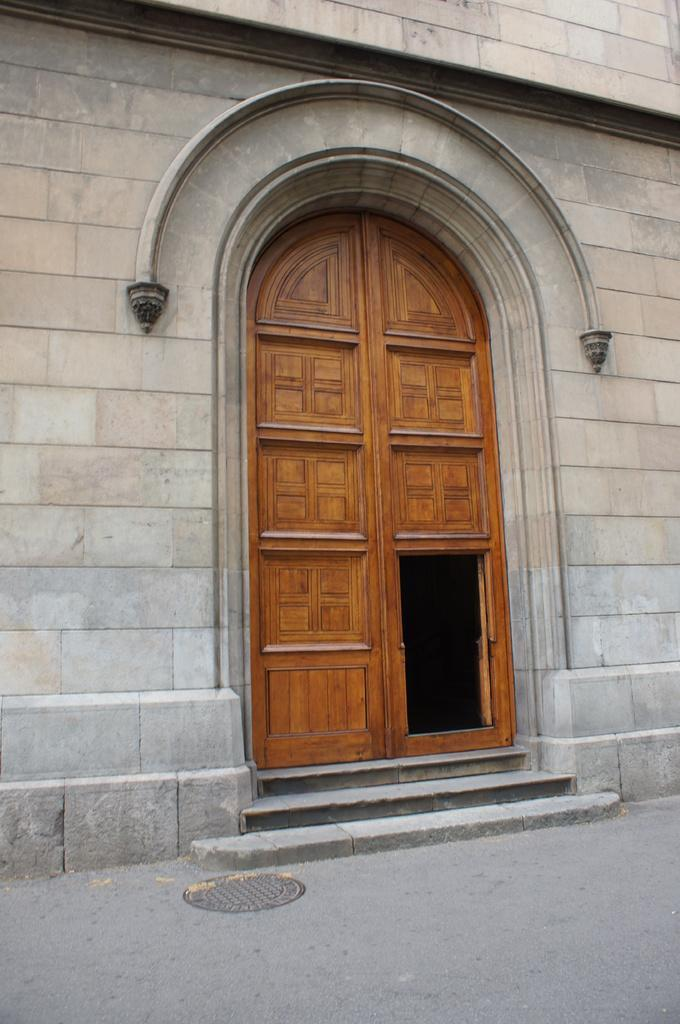door: (260, 269, 374, 764), (377, 259, 491, 737)
